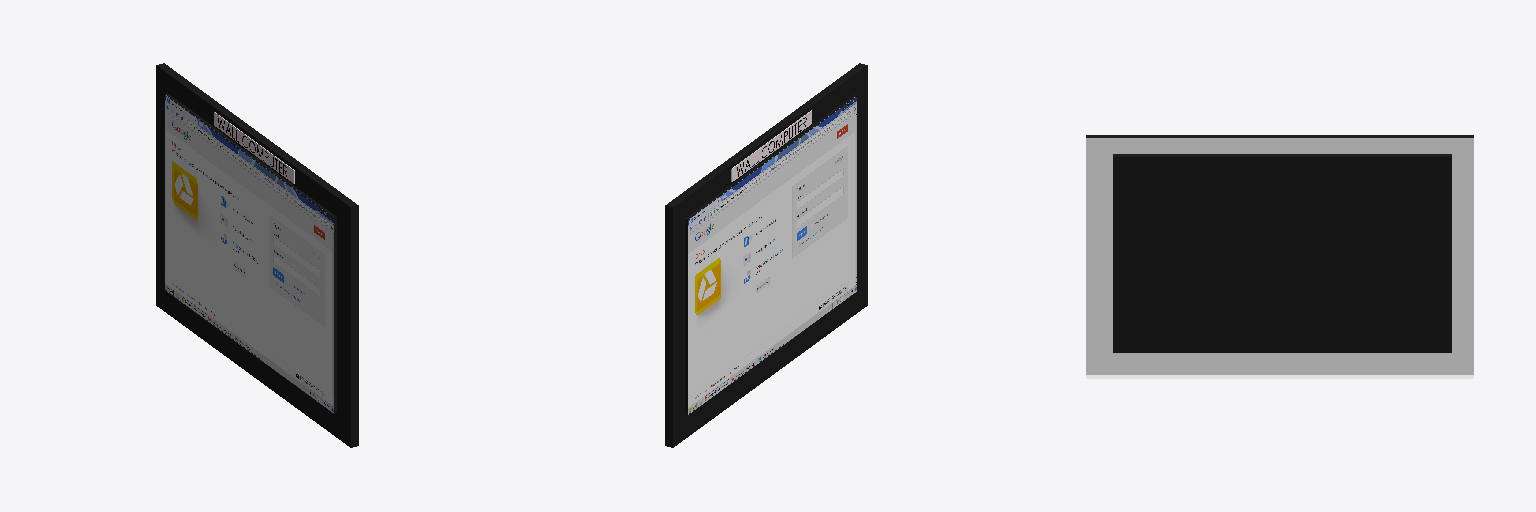
3 renders of one model, left to right at view 1: azimuth 30°, elevation 25°; view 2: azimuth 150°, elevation 25°; view 3: azimuth 270°, elevation 25°, orthographic.
Visible parts, largest first — view 1: mesh1-geometry-1, mesh2-geometry-1, mesh1-geometry-0, mesh17-geometry-0; view 2: mesh1-geometry-1, mesh2-geometry-1, mesh1-geometry-0, mesh17-geometry-0; view 3: mesh1-geometry-0, mesh2-geometry-0, mesh2-geometry-1.
Boxes of the visible parts, box(x1,y1,x2,y2) form: mesh1-geometry-1: box(165, 95, 333, 412); mesh2-geometry-1: box(156, 63, 358, 447); mesh1-geometry-0: box(165, 93, 336, 413); mesh17-geometry-0: box(214, 112, 294, 183); mesh1-geometry-1: box(688, 97, 856, 414); mesh2-geometry-1: box(665, 63, 867, 447); mesh1-geometry-0: box(685, 95, 856, 414); mesh17-geometry-0: box(731, 110, 811, 181); mesh1-geometry-0: box(1113, 154, 1451, 352); mesh2-geometry-0: box(1086, 138, 1473, 378); mesh2-geometry-1: box(1086, 135, 1473, 137).
Bounding box in the file's own units: 0.0274 × 0.5635 × 0.8257.
Materials: 5 (1 with a texture image).